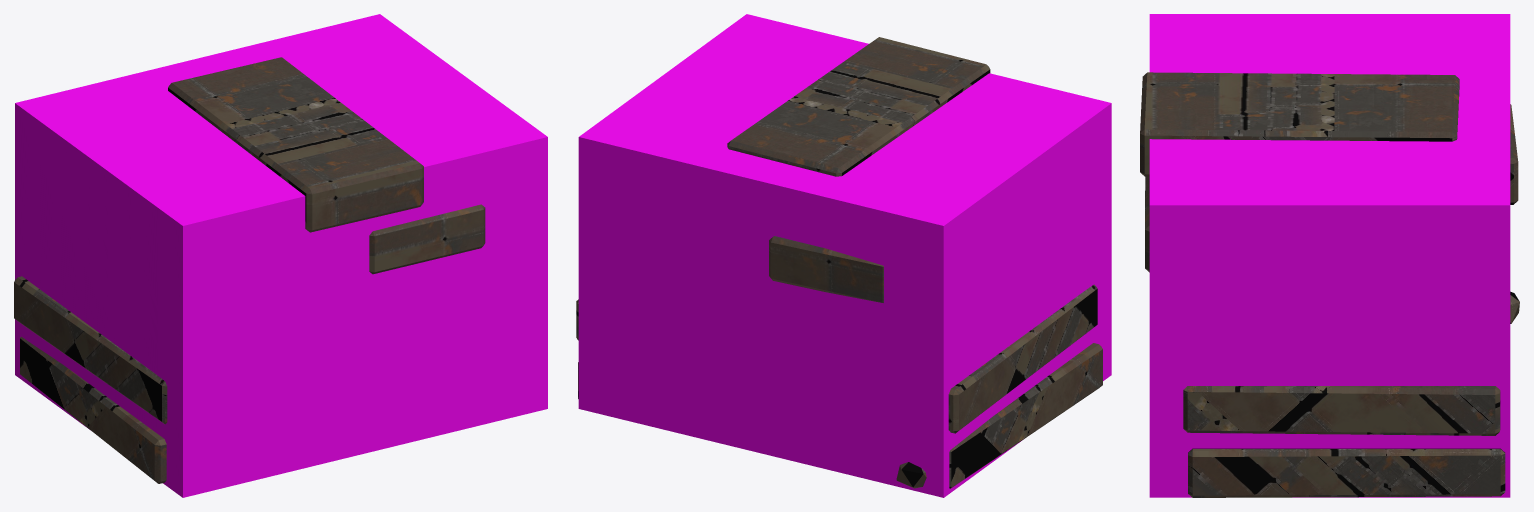
The model's file is prop_ingot_stack.glb.
3 renders of one model, left to right at view 1: azimuth 30°, elevation 25°; view 2: azimuth 150°, elevation 25°; view 3: azimuth 270°, elevation 25°, orthographic. The views are drawn at different scales.
Parts seen in each view (by area): view 1: prop_ingot_stack-col, Ingots; view 2: prop_ingot_stack-col, Ingots; view 3: prop_ingot_stack-col, Ingots.
Part boxes in pixels (box(x1,y1,x2,y2)): prop_ingot_stack-col: box(15, 14, 547, 497); Ingots: box(14, 57, 485, 483); prop_ingot_stack-col: box(578, 14, 1111, 497); Ingots: box(576, 37, 1102, 488); prop_ingot_stack-col: box(1149, 14, 1510, 497); Ingots: box(1140, 72, 1519, 497).
Bounding box in the file's own units: 0.8266 × 0.5884 × 0.6589.
Materials: 2 (1 with a texture image).
